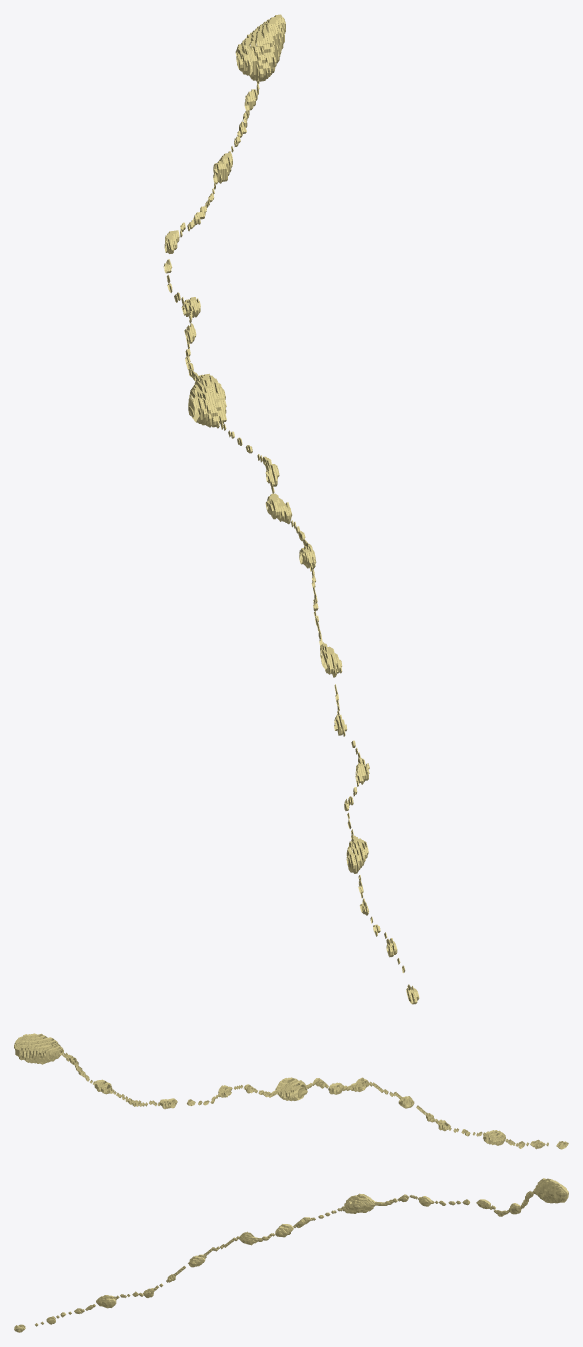
The model's file is SVV_PLNR.gltf.
3 renders of one model, top to bottom at view 1: azimuth 30°, elevation 25°; view 2: azimuth 150°, elevation 25°; view 3: azimuth 270°, elevation 25°, orthographic. The views are drawn at different scales.
Visible parts, largest first — view 1: PLNR; view 2: PLNR; view 3: PLNR.
Boxes of the visible parts, box(x1,y1,x2,y2) form: PLNR: box(163, 14, 419, 1004); PLNR: box(14, 1033, 568, 1149); PLNR: box(14, 1178, 568, 1332).
Size of the model in its own units: 83193 by 93013 by 189640.
